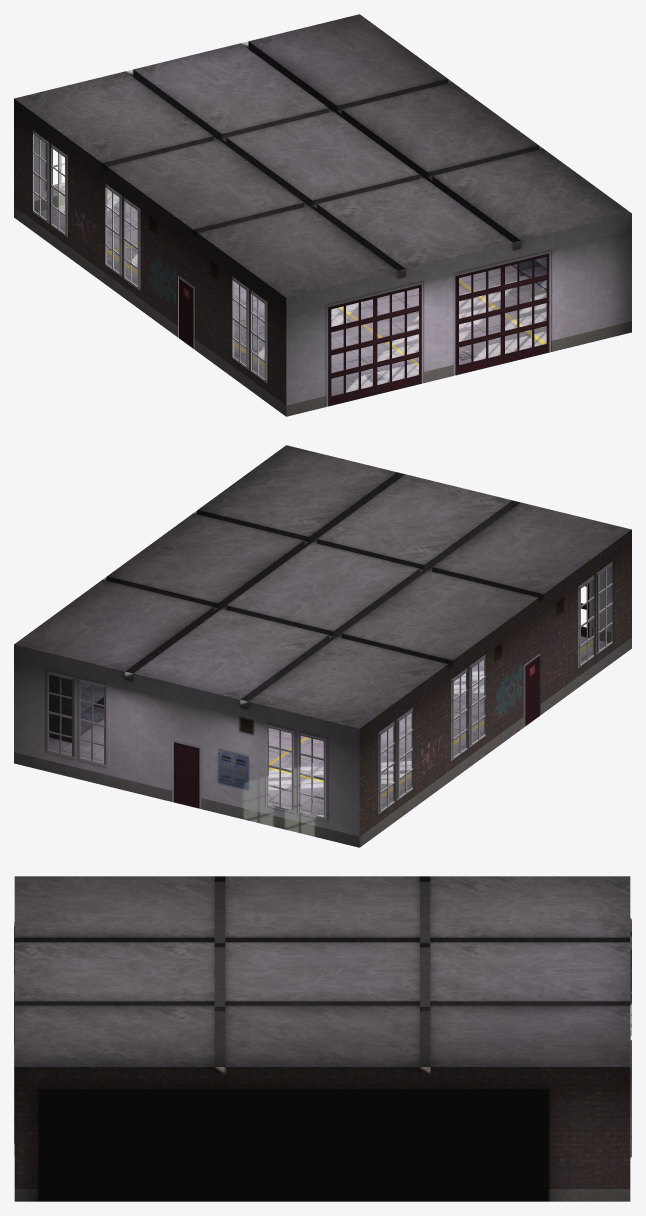
The picture shows the model from 3 angles, top to bottom: view 1: azimuth 30°, elevation 25°; view 2: azimuth 150°, elevation 25°; view 3: azimuth 270°, elevation 25°; orthographic projection. The views are drawn at different scales.
Visible parts, largest first — view 1: Object_2; view 2: Object_2, Object_3; view 3: Object_2.
Part boxes in pixels (<box>): Object_2: <box>14,14,631,416</box>; Object_2: <box>14,445,631,847</box>; Object_3: <box>80,682,103,734</box>; Object_2: <box>14,876,631,1201</box>.
Size of the model in its own units: 1315 by 431 by 1794.
